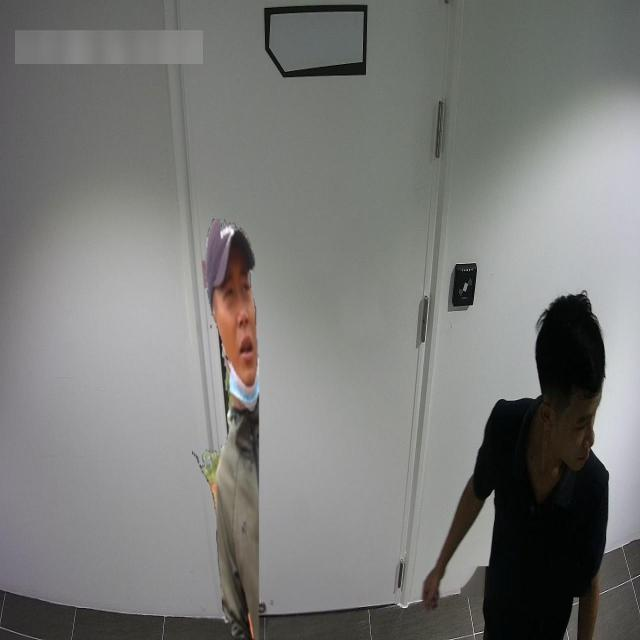hairnet: (217, 276, 260, 408)
